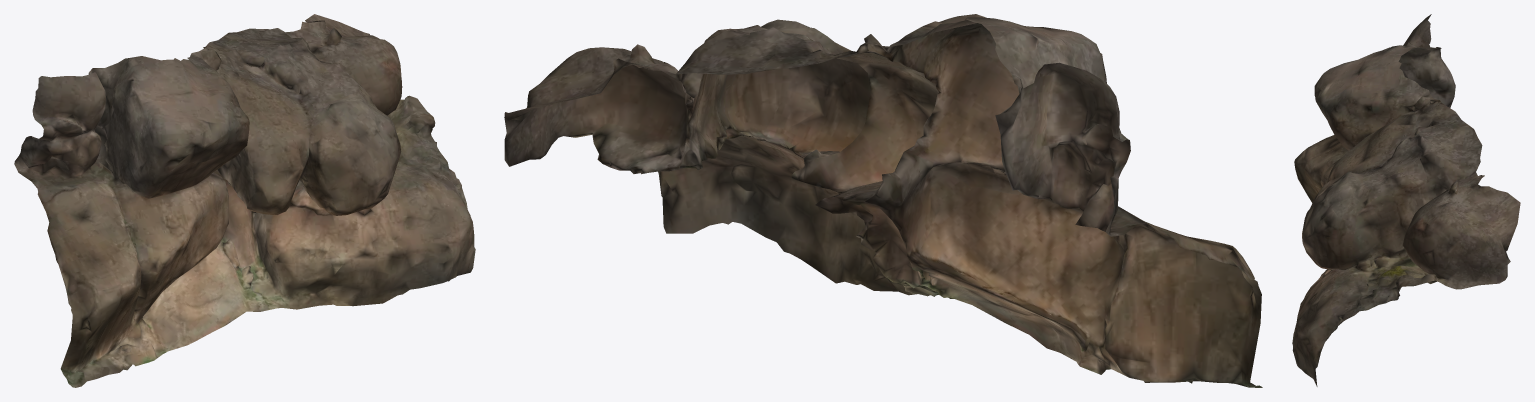
File: canyon_cliff_01.glb
3 views of the same model, side by side, from view 1: azimuth 30°, elevation 25°; view 2: azimuth 150°, elevation 25°; view 3: azimuth 270°, elevation 25° (orthographic). The views are drawn at different scales.
Visible parts, largest first — view 1: drone_rock_01; view 2: drone_rock_01; view 3: drone_rock_01.
Boxes of the visible parts, box(x1,y1,x2,y2) form: drone_rock_01: box(14, 14, 475, 387); drone_rock_01: box(504, 14, 1262, 387); drone_rock_01: box(1292, 14, 1520, 386).
Size of the model in its own units: 8.27 by 4.96 by 4.38.
Materials: 1 (1 with a texture image).
